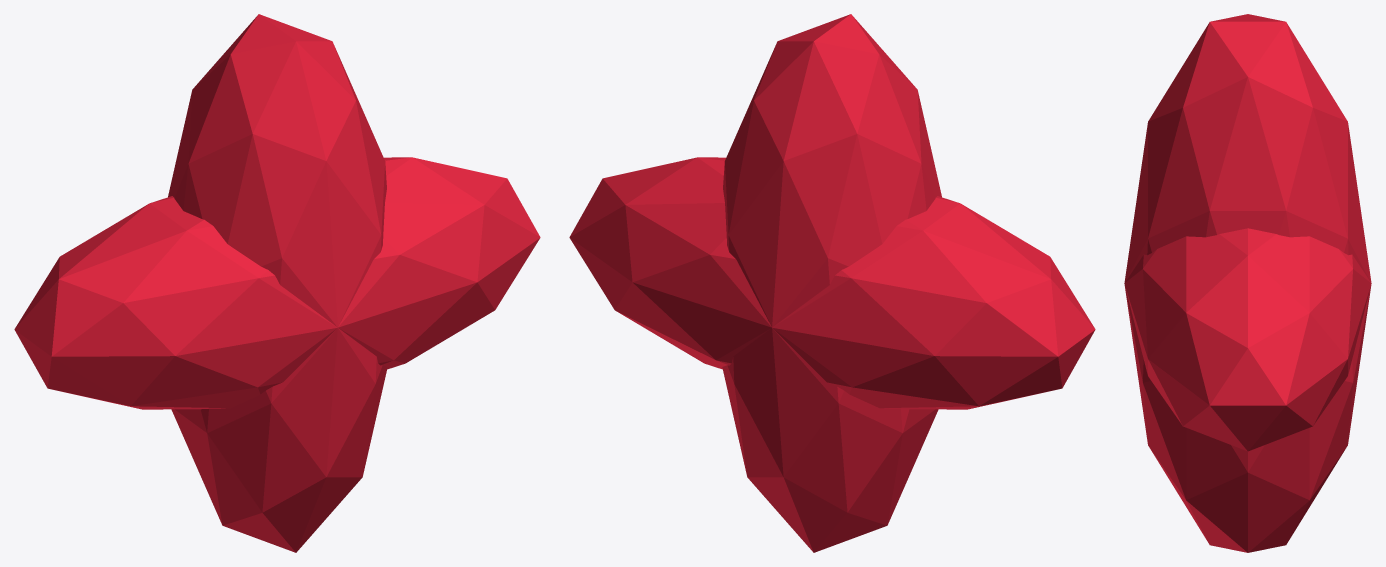
File: marcador-02.glb
3 views of the same model, side by side, from view 1: azimuth 30°, elevation 25°; view 2: azimuth 150°, elevation 25°; view 3: azimuth 270°, elevation 25° (orthographic). The views are drawn at different scales.
Visible parts, largest first — view 1: Icosphere; view 2: Icosphere; view 3: Icosphere.
Boxes of the visible parts, left/top/right/bottom form: Icosphere: left=14, top=14, right=540, bottom=552; Icosphere: left=569, top=14, right=1095, bottom=552; Icosphere: left=1124, top=14, right=1371, bottom=552.
Size of the model in its own units: 4.67 by 4.67 by 2.
